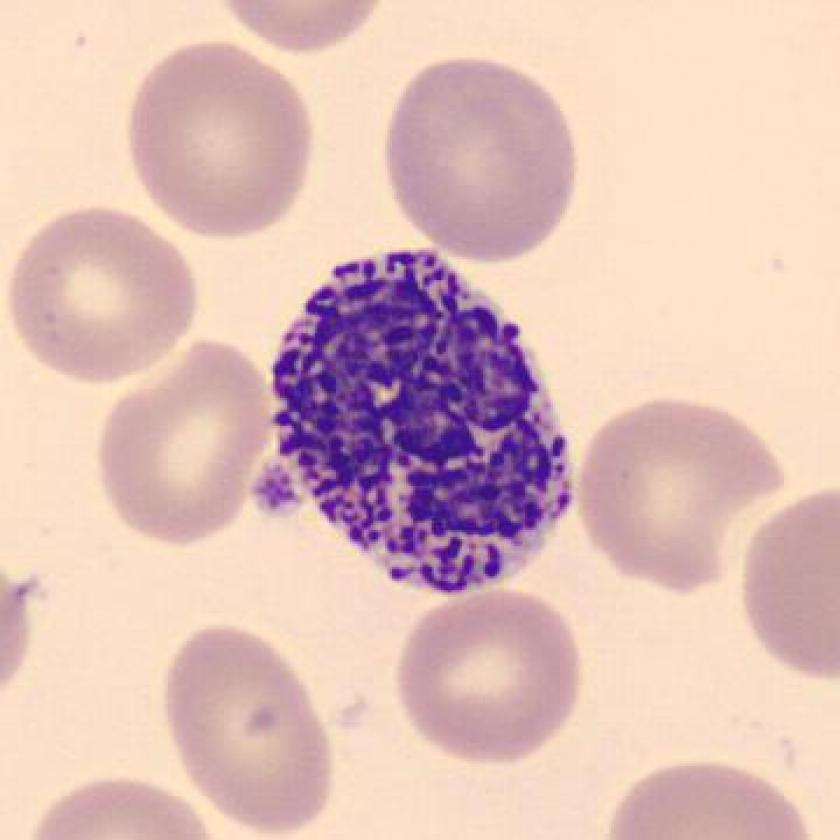basophil: (265, 232, 594, 598)
